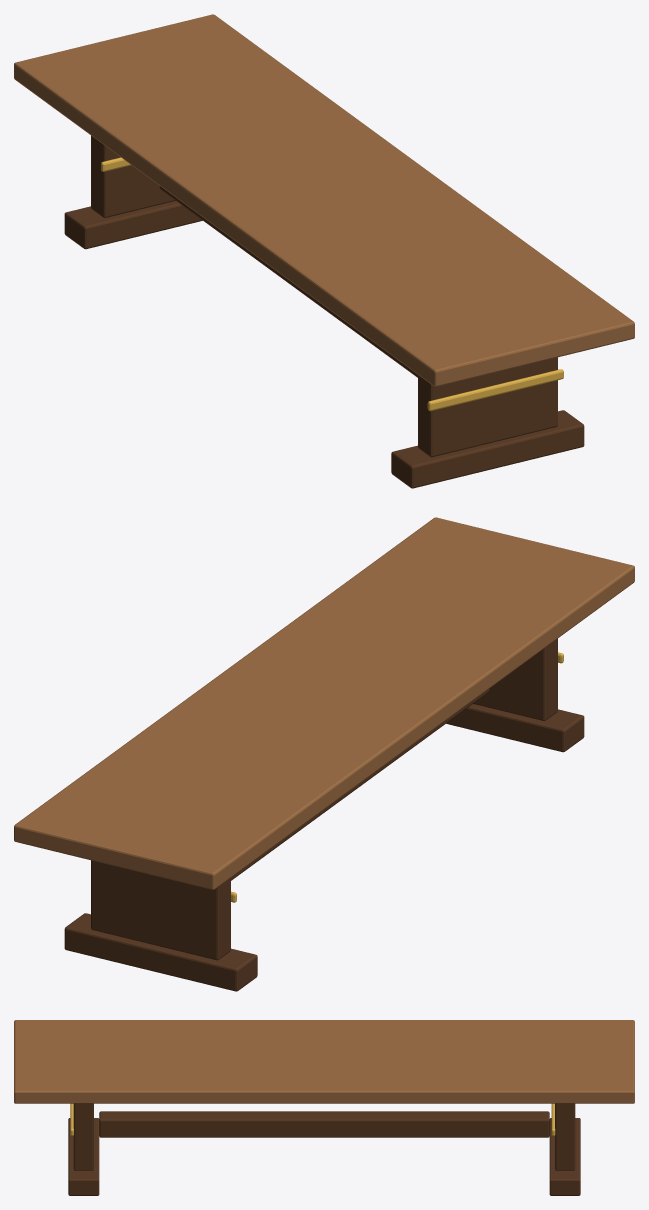
The model's file is refectory-table.glb.
The picture shows the model from 3 angles, top to bottom: view 1: azimuth 30°, elevation 25°; view 2: azimuth 150°, elevation 25°; view 3: azimuth 270°, elevation 25°; orthographic projection. The views are drawn at different scales.
Visible parts, largest first — view 1: RefectoryTable; view 2: RefectoryTable; view 3: RefectoryTable.
Part boxes in pixels (x1,y1,x2,y2): RefectoryTable: [14, 14, 634, 488]; RefectoryTable: [14, 517, 634, 991]; RefectoryTable: [14, 1020, 634, 1195].
Size of the model in its own units: 1.1 by 0.78 by 4.
